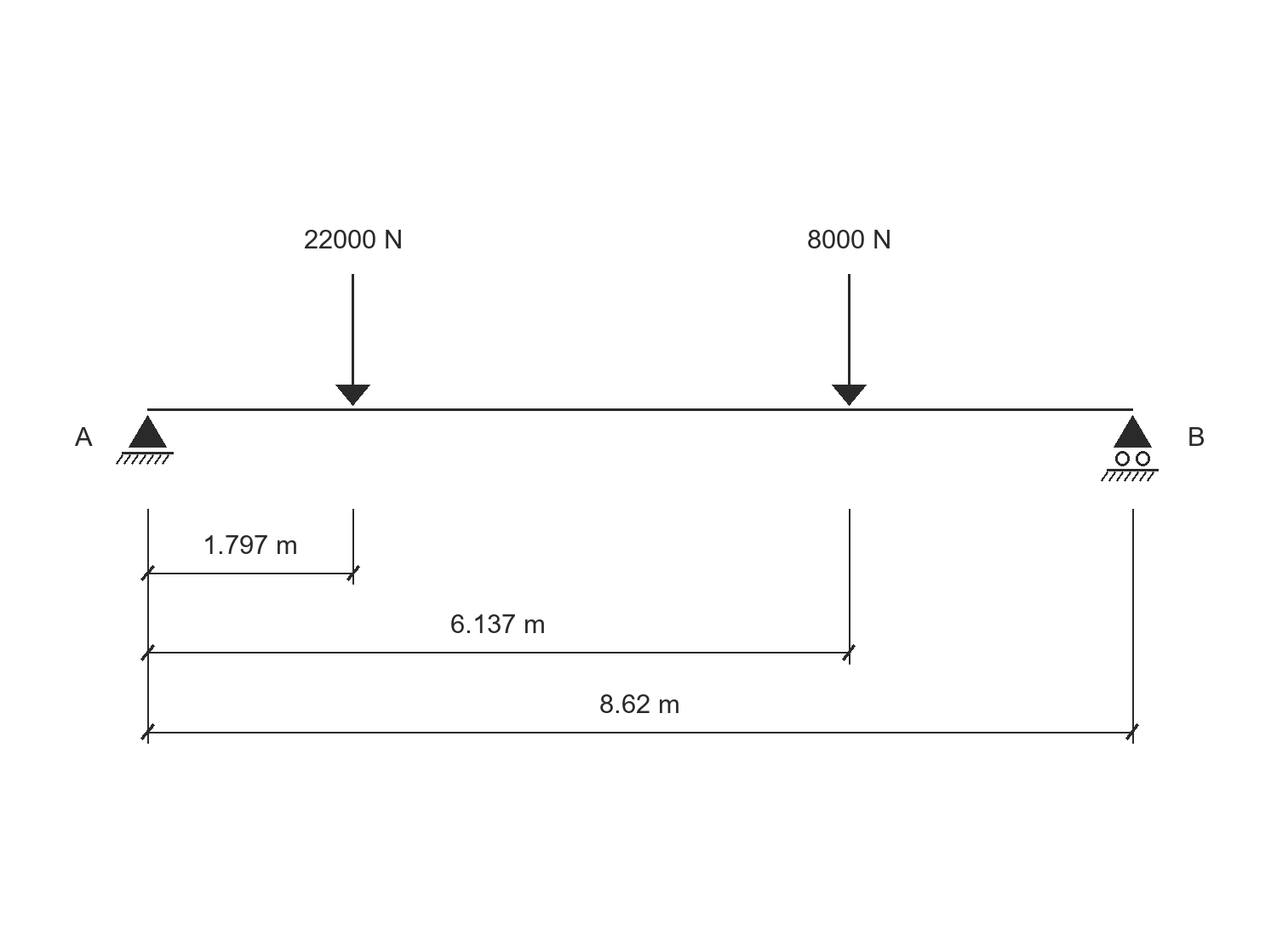pin_support: (116, 415, 174, 465)
point_load: (335, 274, 370, 406), (832, 274, 867, 406)
roller_support: (1101, 415, 1159, 482)
